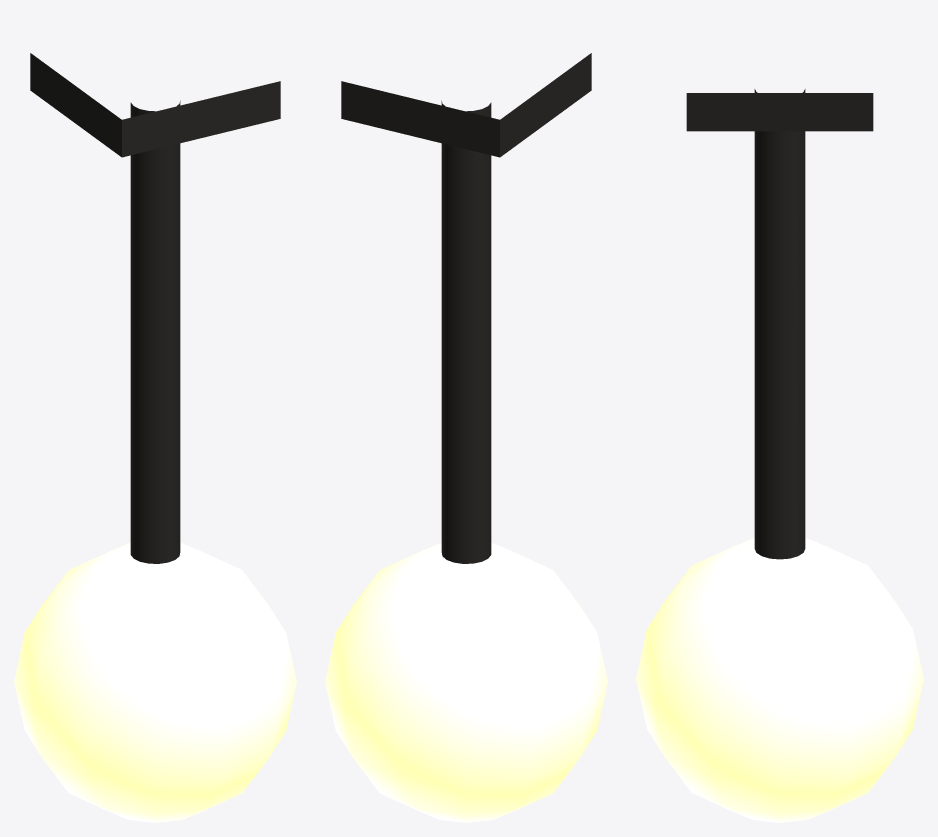
File: model.lamp.glb
3 renders of one model, left to right at view 1: azimuth 30°, elevation 25°; view 2: azimuth 150°, elevation 25°; view 3: azimuth 270°, elevation 25°, orthographic.
Parts seen in each view (by area): view 1: lamp; view 2: lamp; view 3: lamp.
Boxes of the visible parts, box(x1,y1,x2,y2) form: lamp: box(14, 53, 296, 822); lamp: box(325, 53, 607, 822); lamp: box(636, 89, 923, 822).
Bounding box in the file's own units: 0.3398 × 0.9849 × 0.3398.
